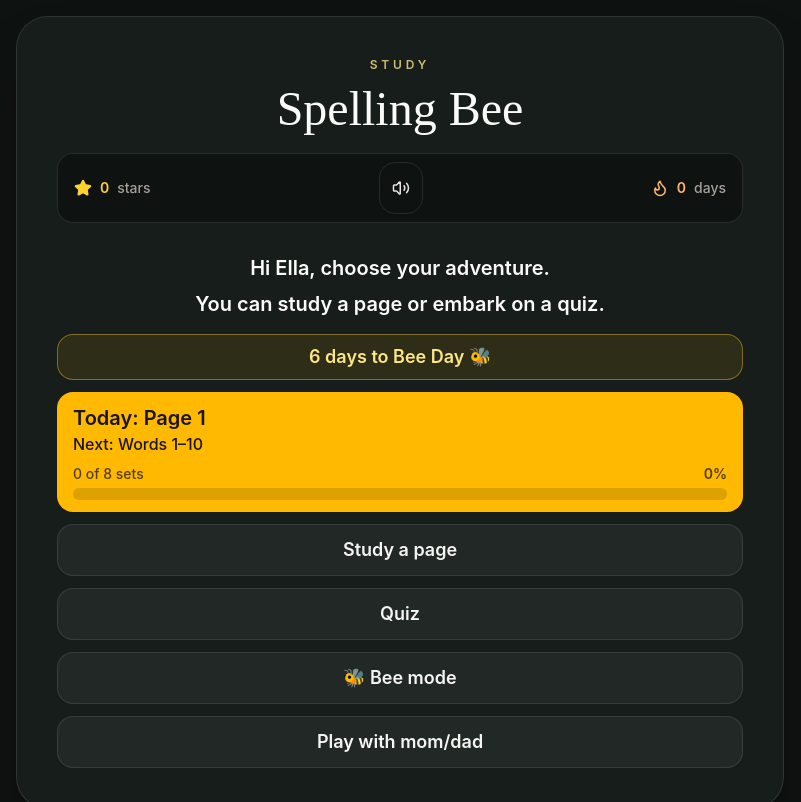
Test: study loop › moves forward only after the turn is finished
Click the button "Quiz".
click(400, 614)  # box [57,588,743,640]
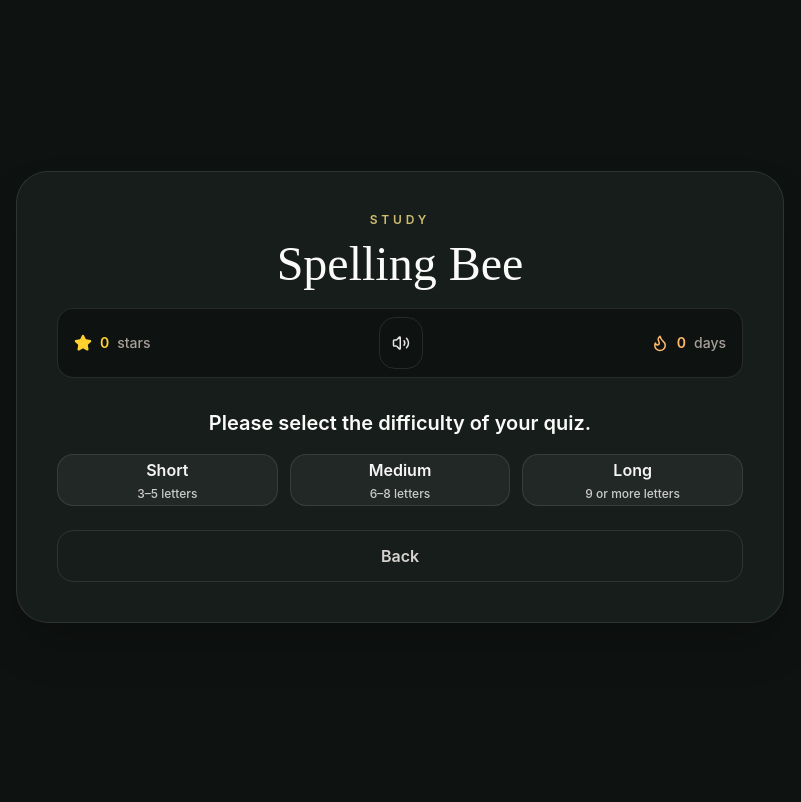
Click the button "Short 3–5 letters".
click(167, 480)  # box [57,454,278,506]
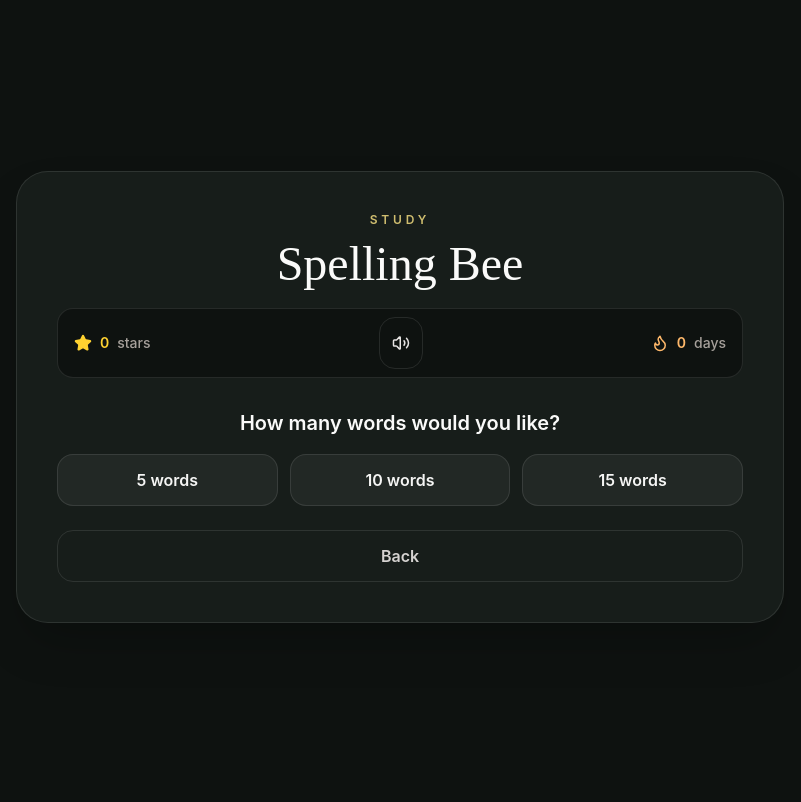
Click the button "5 words".
click(167, 480)  # box [57,454,278,506]
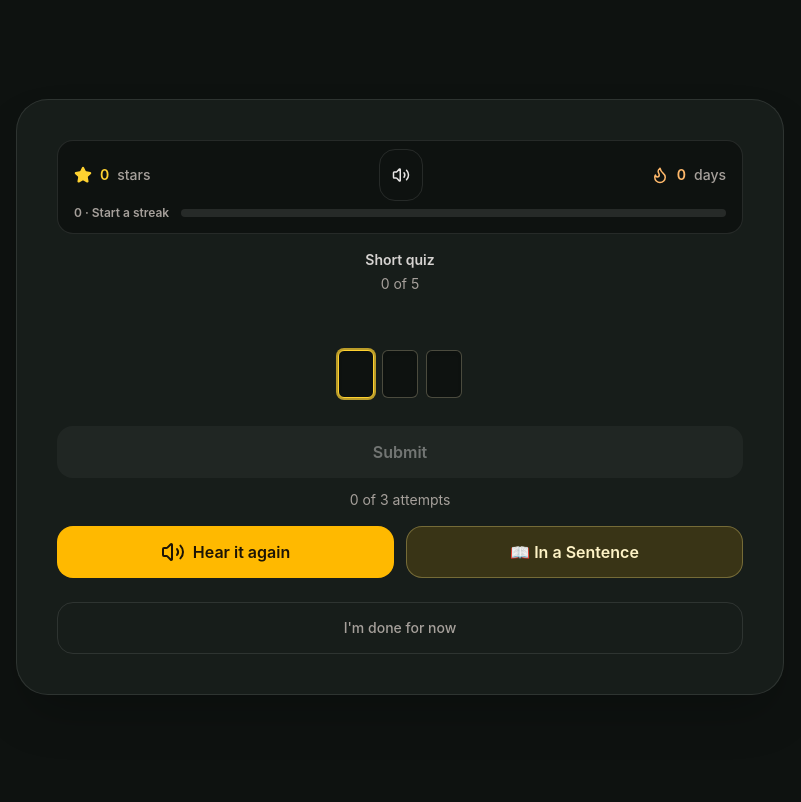
Type "rod" into the field named "spelling guess".
click(400, 374); type("rod")  # box [57,342,743,406]
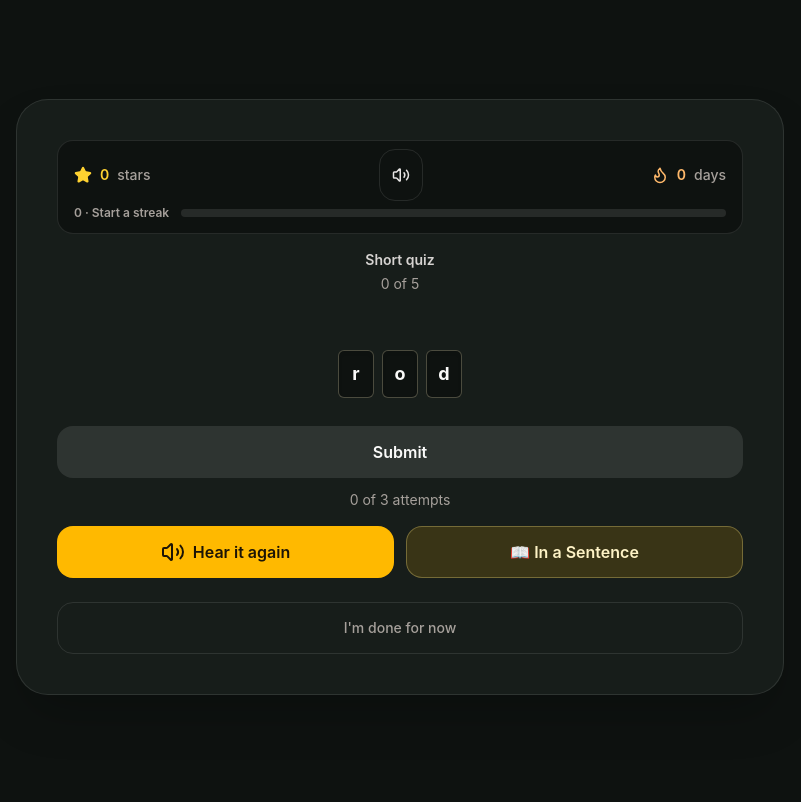
Click the button "Submit".
click(400, 452)  # box [57,426,743,478]
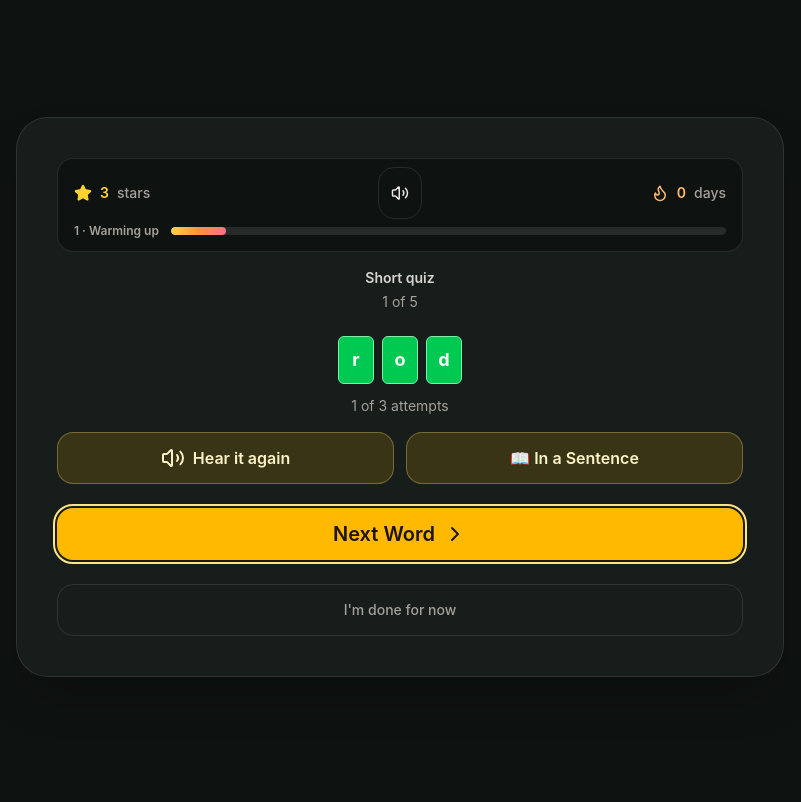
Expected: the text with test id "clean-count" reads "1 of 5", [382,293,418,310]
Click the button "Next Word".
click(400, 534)  # box [57,508,743,560]
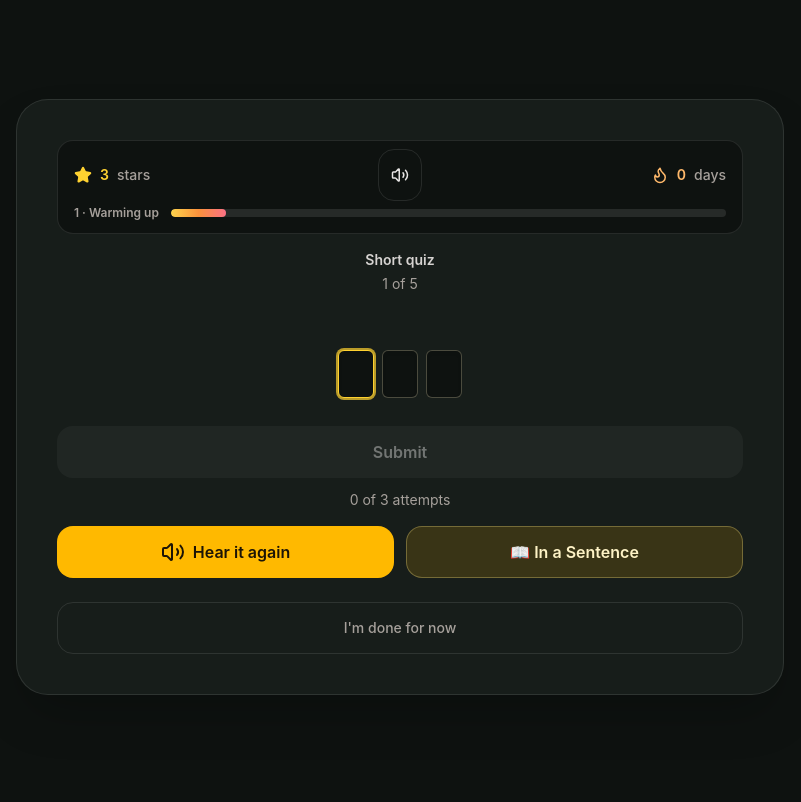
Expected: the number of elements with test id "letter-slot" is 3, [338,350,374,398]; [382,350,418,398]; [426,350,462,398]
